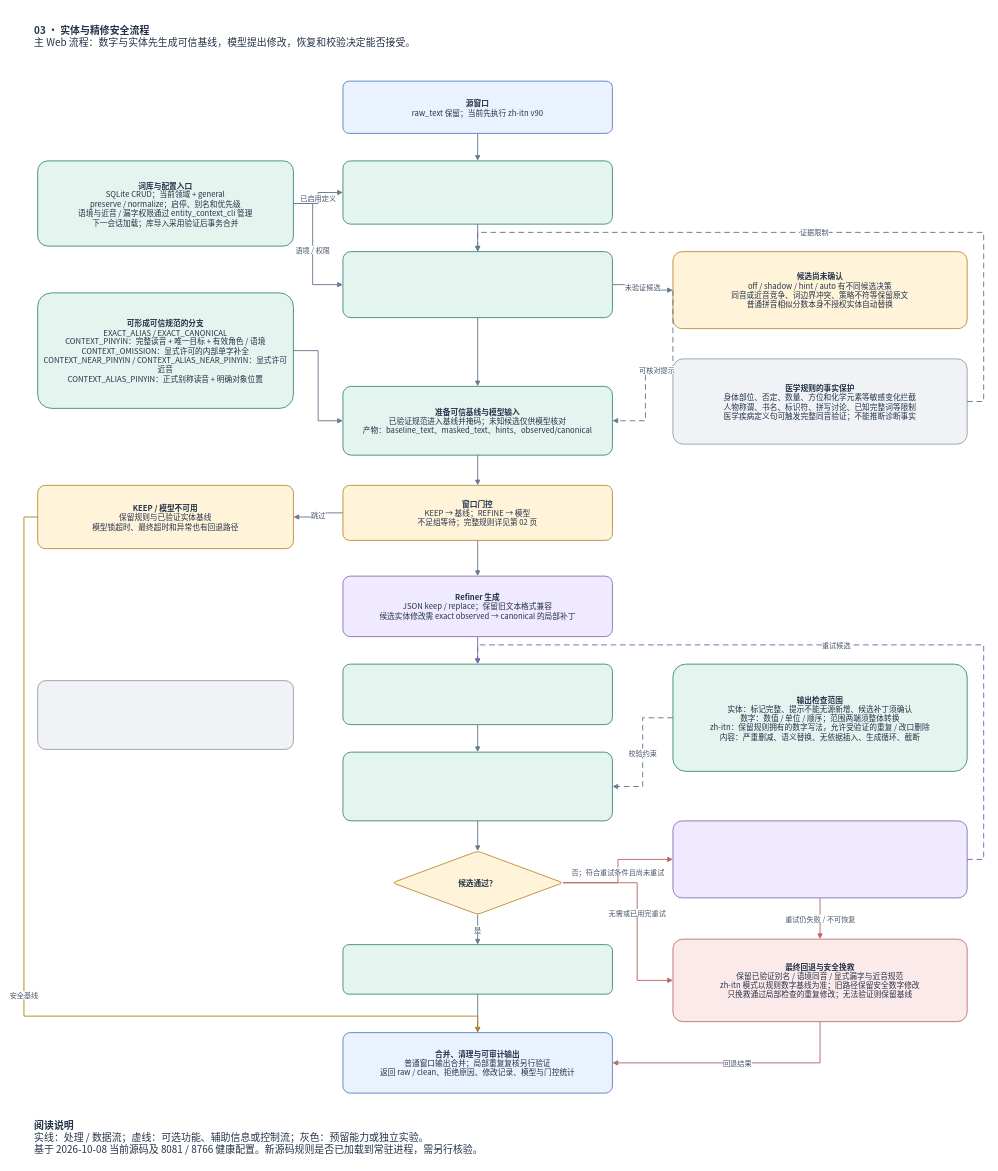
The diagram is 998 pixels wide and 1171 high, and some of its shapes have lost their labels. Here are the shapes that lost their labels. From the top down, the centre of each, then its label:
point 477,192: 精确实体与规则保护 标准名 / 已审核别名 / URL / 缩写 / 标识符 / 数字成语 Web 数字不使用占位符：由独立数值与写法校验保护
point 477,284: 实体候选与独立证据验证 字形 / 拼音 / 长度 / 领域 / 优先级召回评分 独立 jieba 词边界、源偏移、竞争候选、策略与权限检查
point 477,694: 结构化补丁应用 replace 的 source 必须逐字来自输入且只出现一次 非法 / 非唯一 / 空输出 → 拒绝
point 165,715: 独立实验模块 entity_retrieval / entity_ranker 与音频似然重评分 保留用于研究复现；当前正式 Web 未接入这些自动方案
point 477,786: 占位符恢复与语义安全检查 修复有限的占位符下划线损坏；数量、顺序、句间关系校验 再检查实体、数值、规则数字写法、内容损失和无依据新增
point 819,859: 可重试完整性失败 占位符损坏 / 内容损失 / 数字等可恢复异常 严格保护提示重试最多 1 次 再次按相同补丁、恢复与安全检查验收
point 477,969: 接受候选 记录实际规范和接受状态
